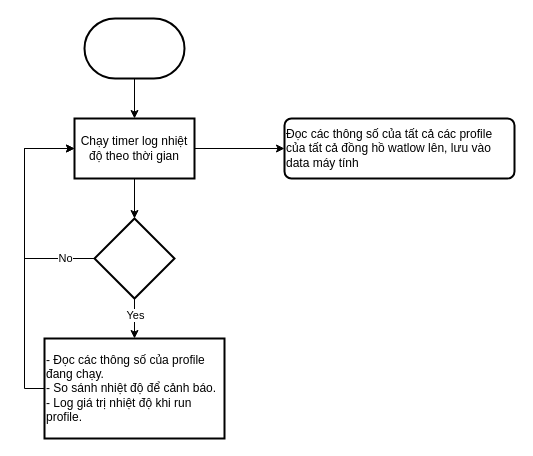
Some shapes in this 533 by 456 pixel diagram are drawn without their labels. Here are the shapes that lost their labels. From the top down, the box of each, then its label:
(83, 17, 185, 79): Begin
(93, 217, 175, 299): Run Profile?
